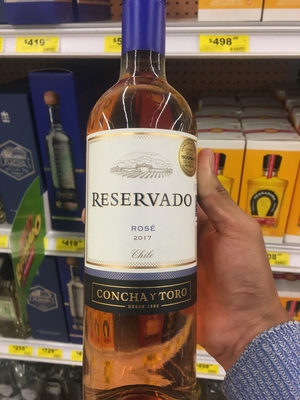reservado rose: (77, 16, 206, 387)
